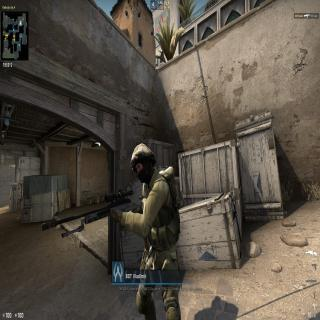CT-Head: (130, 140, 156, 185)
